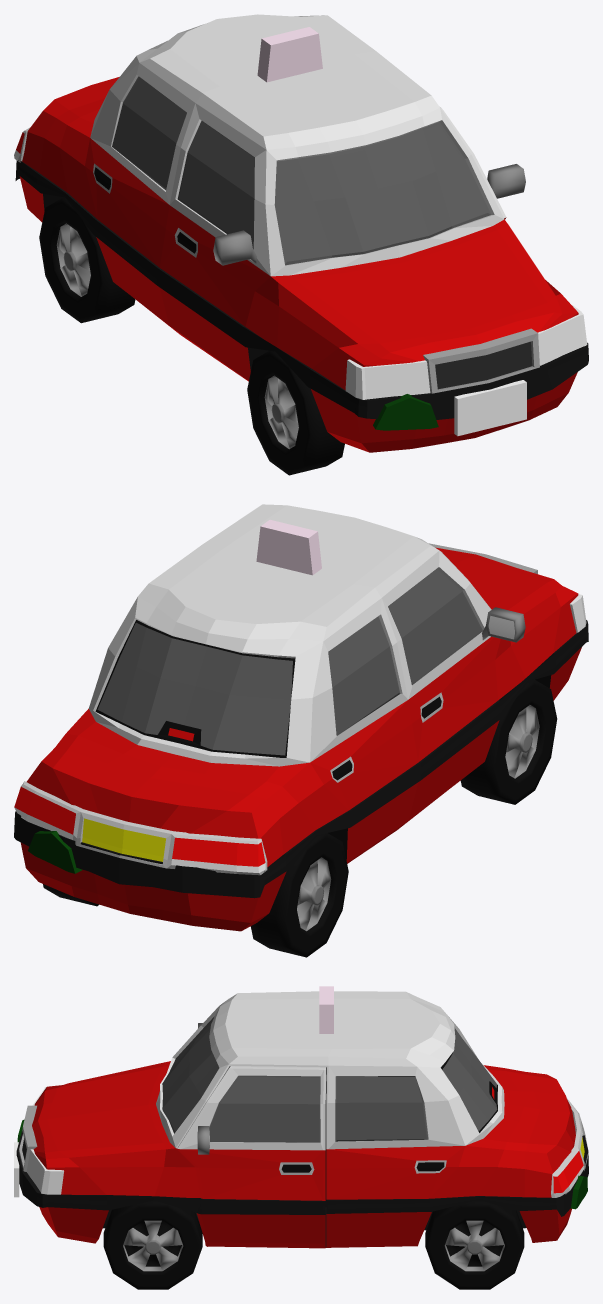
File: car2.glb
The picture shows the model from 3 angles, top to bottom: view 1: azimuth 30°, elevation 25°; view 2: azimuth 150°, elevation 25°; view 3: azimuth 270°, elevation 25°; orthographic projection. The views are drawn at different scales.
Visible parts, largest first — view 1: Taxibody_0, TaxiLight_2, WheelRightFront_3, WheelRightBack_4, Mirror_1; view 2: Taxibody_0, TaxiLight_2, WheelRightBack_4, WheelRightFront_3, Mirror_1; view 3: Taxibody_0, TaxibodyDoor_7, WheelleftBack_6, WheelLeftFront_5, TaxiLight_2.
Part boxes in pixels (left/top/right/bottom): Taxibody_0: left=15, top=14, right=588, bottom=452; TaxiLight_2: left=14, top=27, right=587, bottom=436; WheelRightFront_3: left=247, top=350, right=344, bottom=475; WheelRightBack_4: left=39, top=197, right=135, bottom=323; Mirror_1: left=213, top=164, right=525, bottom=265; Taxibody_0: left=14, top=504, right=588, bottom=931; TaxiLight_2: left=14, top=519, right=588, bottom=875; WheelRightBack_4: left=250, top=833, right=348, bottom=957; WheelRightFront_3: left=460, top=679, right=557, bottom=804; Mirror_1: left=482, top=607, right=525, bottom=642; Taxibody_0: left=16, top=991, right=588, bottom=1247; TaxibodyDoor_7: left=177, top=1066, right=326, bottom=1248; WheelleftBack_6: left=425, top=1200, right=524, bottom=1289; WheelLeftFront_5: left=103, top=1200, right=202, bottom=1289; TaxiLight_2: left=14, top=986, right=588, bottom=1209.
Bounding box in the file's own units: 2.72 × 2.72 × 5.73.
2 materials, 2 textured.
